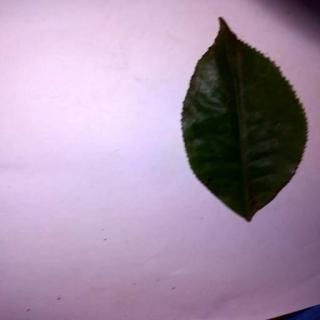Bird Eye Spot: (182, 15, 309, 225)
